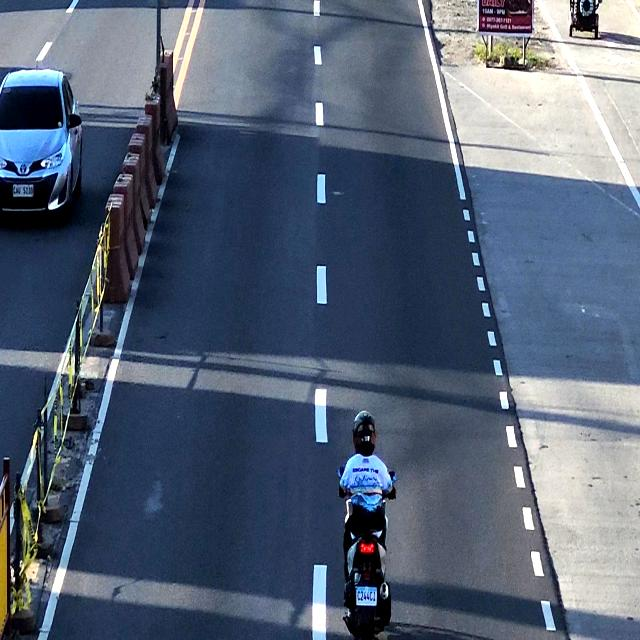License-Plate: (354, 586, 380, 610)
Motorcycle: (341, 415, 395, 640)
